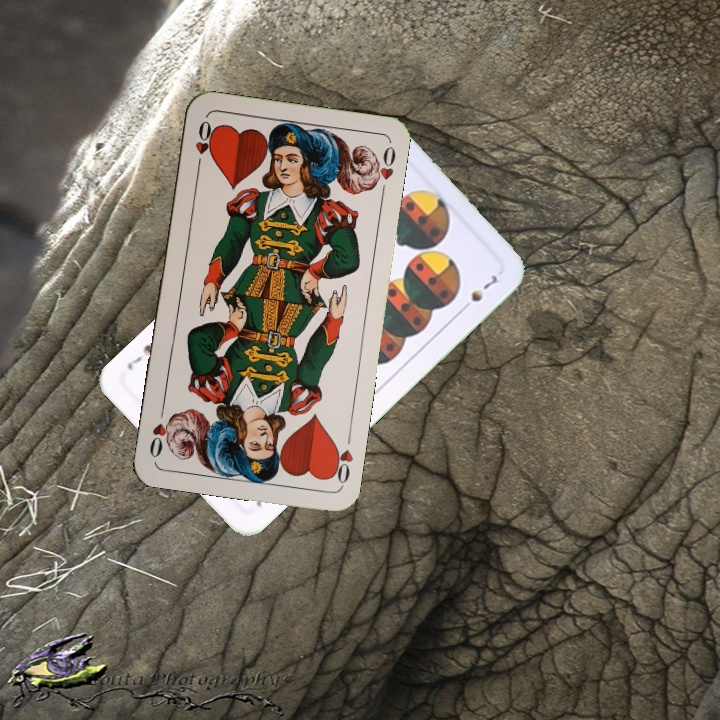HO: (326, 439, 356, 487), (191, 116, 215, 174)
